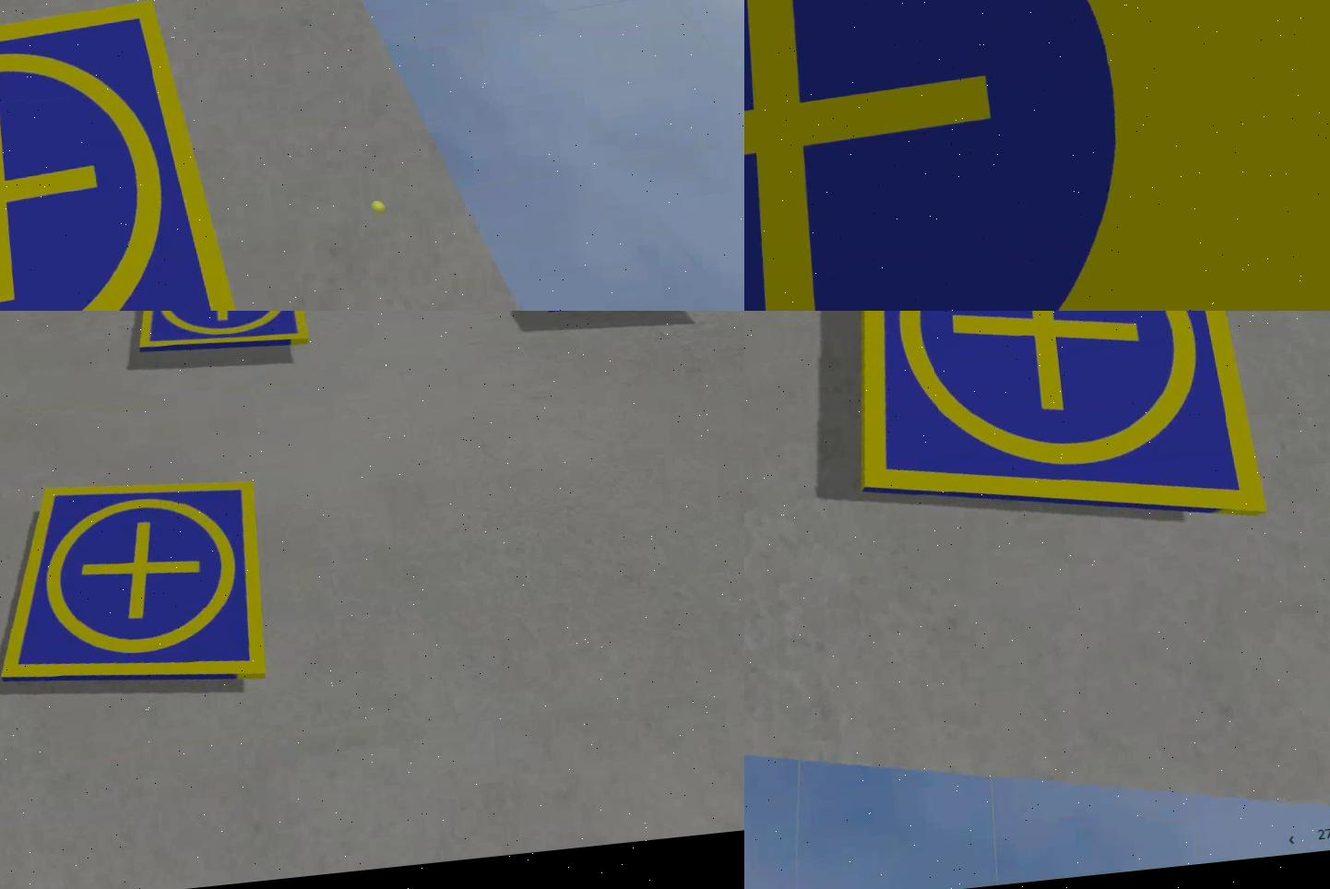large_base: (745, 1, 1330, 312)
small_base: (830, 312, 1276, 559), (1, 1, 261, 312), (1, 461, 283, 717), (133, 312, 315, 366)
